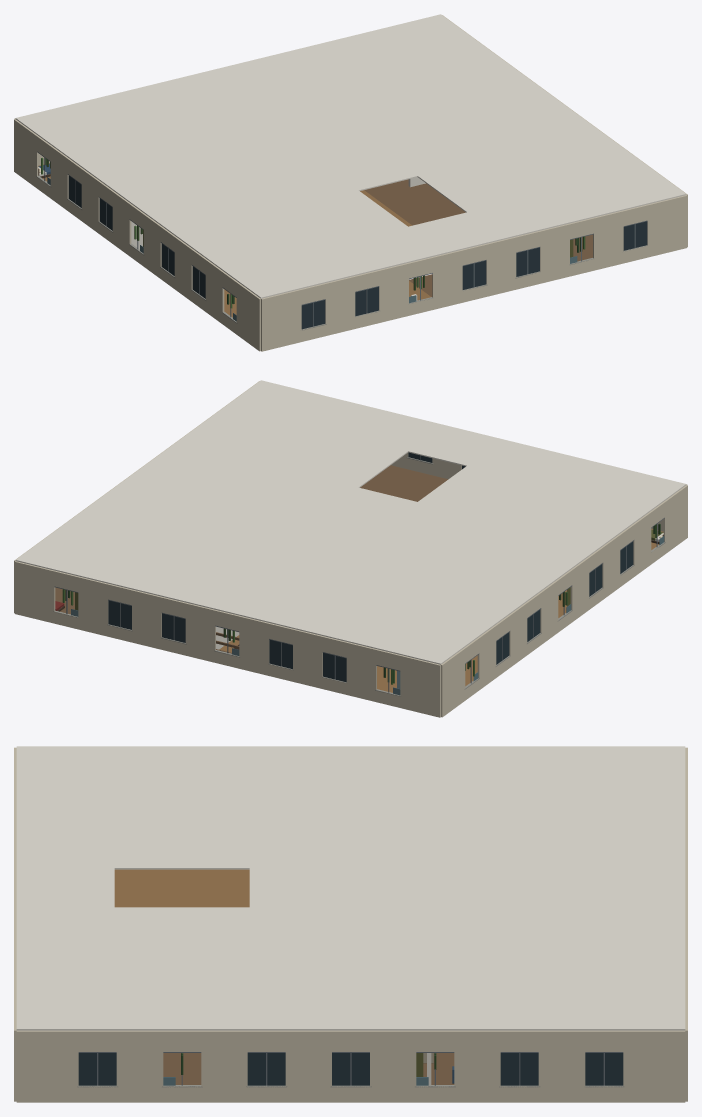
File: tw_interior_flat_32.glb
3 renders of one model, top to bottom at view 1: azimuth 30°, elevation 25°; view 2: azimuth 150°, elevation 25°; view 3: azimuth 270°, elevation 25°, orthographic. The views are drawn at different scales.
Visible parts, largest first — view 1: tw_interior_flat_32; view 2: tw_interior_flat_32; view 3: tw_interior_flat_32.
Boxes of the visible parts, bbox=[...] form: tw_interior_flat_32: bbox=[14, 14, 687, 351]; tw_interior_flat_32: bbox=[14, 380, 687, 717]; tw_interior_flat_32: bbox=[14, 746, 687, 1102].
Size of what is drawn, in the model's own units: 32.33 by 3.82 by 31.94.
3 materials, 3 textured.
